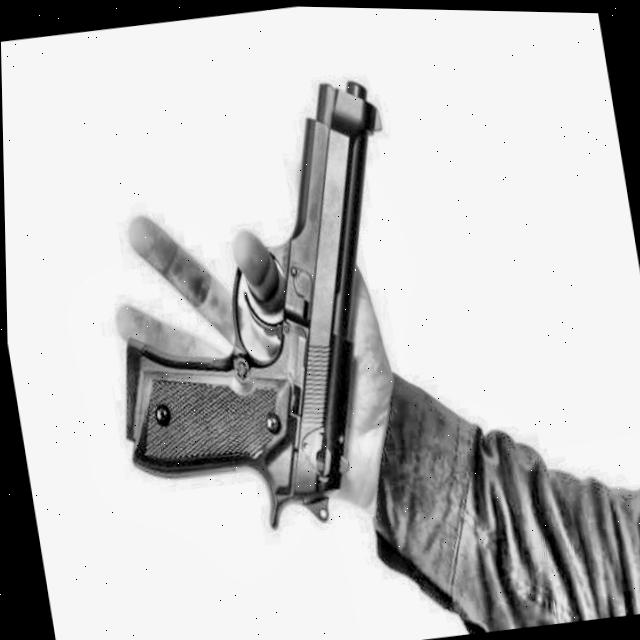pistol: (104, 66, 385, 546)
